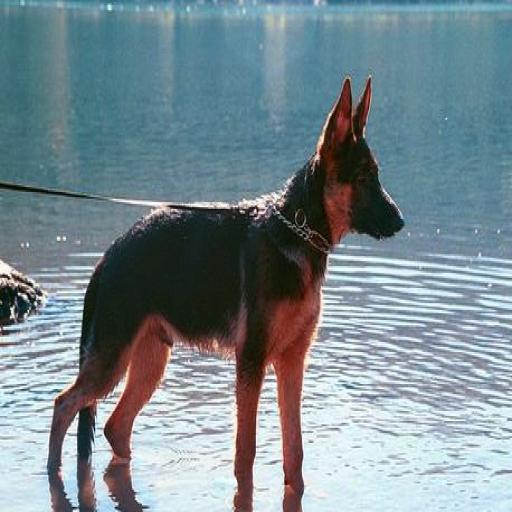dog_face: (316, 77, 402, 245)
